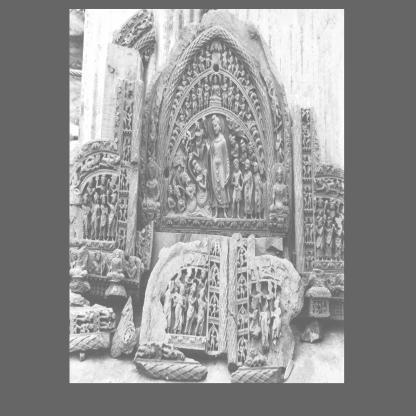buddha-standing: (206, 114, 230, 218)
